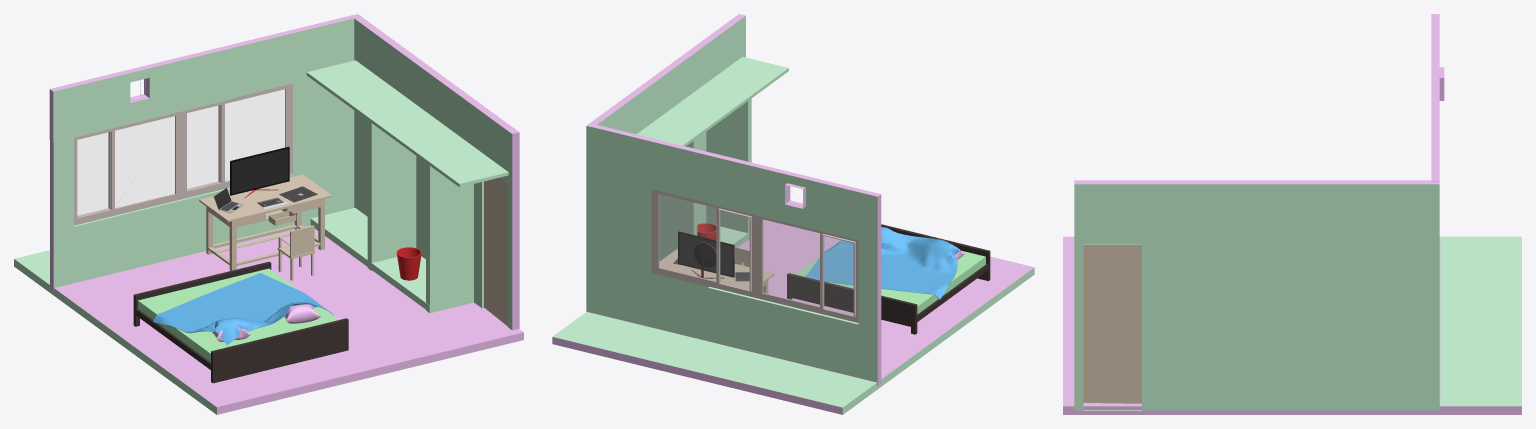
Rendered from final_room.glb.
3 renders of one model, left to right at view 1: azimuth 30°, elevation 25°; view 2: azimuth 150°, elevation 25°; view 3: azimuth 270°, elevation 25°, orthographic. The views are drawn at different scales.
Parts seen in each view (by area): view 1: bin wall, window_wall, floor, bed, window_1, window_2, sheet, desk, door, monitor, chair, bin (+1 smaller); view 2: window_wall, floor, bin wall, window_2, window_1, sheet, bed, monitor, desk; view 3: bin wall, floor, door, window_wall.
Part boxes in pixels (box(x1,y1,x2,y2)): bin wall: box(306, 14, 519, 330); window_wall: box(49, 15, 355, 291); floor: box(14, 225, 523, 414); bed: box(133, 261, 348, 383); window_1: box(74, 111, 183, 225); window_2: box(183, 83, 292, 198); sheet: box(153, 273, 333, 345); desk: box(199, 174, 331, 270); door: box(484, 177, 507, 326); monitor: box(230, 146, 289, 198); chair: box(277, 225, 314, 280); bin: box(396, 247, 421, 280); window_wall: box(591, 124, 881, 386); floor: box(552, 219, 1034, 414); bin wall: box(586, 14, 788, 312); window_2: box(651, 189, 755, 297); window_1: box(755, 215, 858, 322); sheet: box(805, 227, 960, 299); bed: box(787, 224, 990, 334); monitor: box(678, 231, 734, 278); desk: box(659, 249, 774, 293); bin wall: box(1074, 180, 1439, 410); floor: box(1063, 236, 1521, 414); door: box(1083, 244, 1141, 403); window_wall: box(1431, 14, 1444, 181).
Size of the model in its own units: 40.57 by 25.64 by 46.14.
